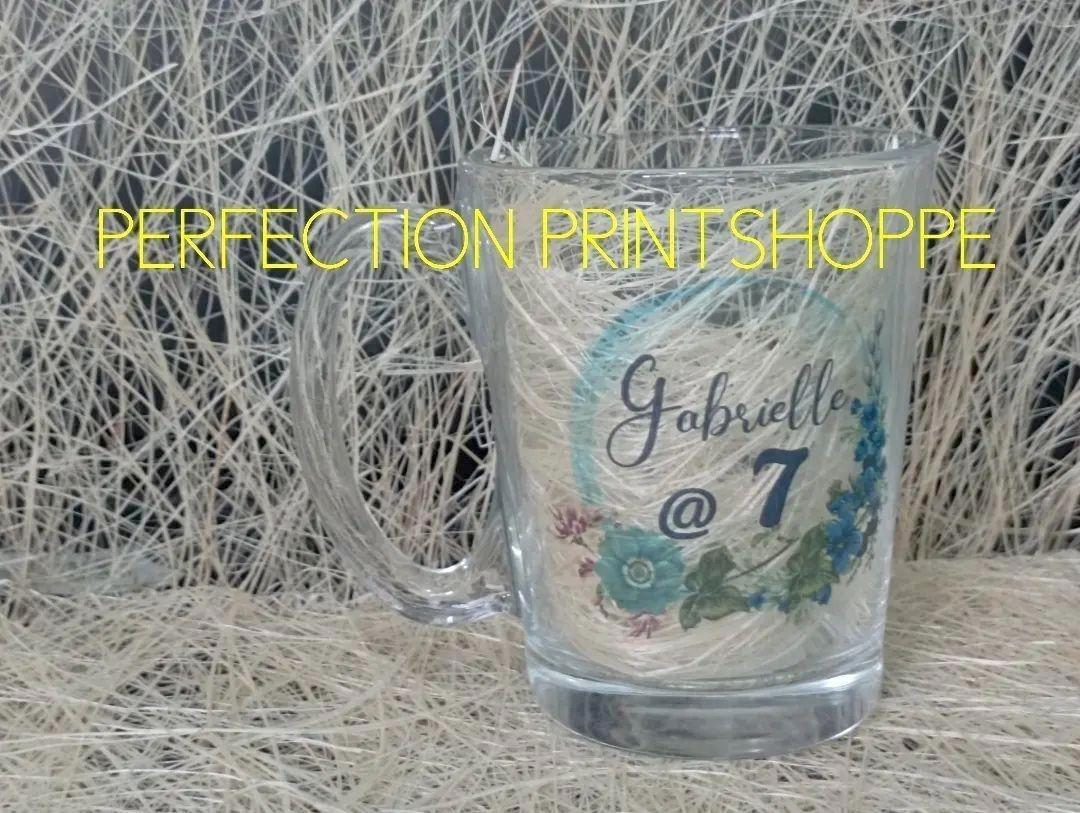glass-mug: (266, 125, 959, 765)
